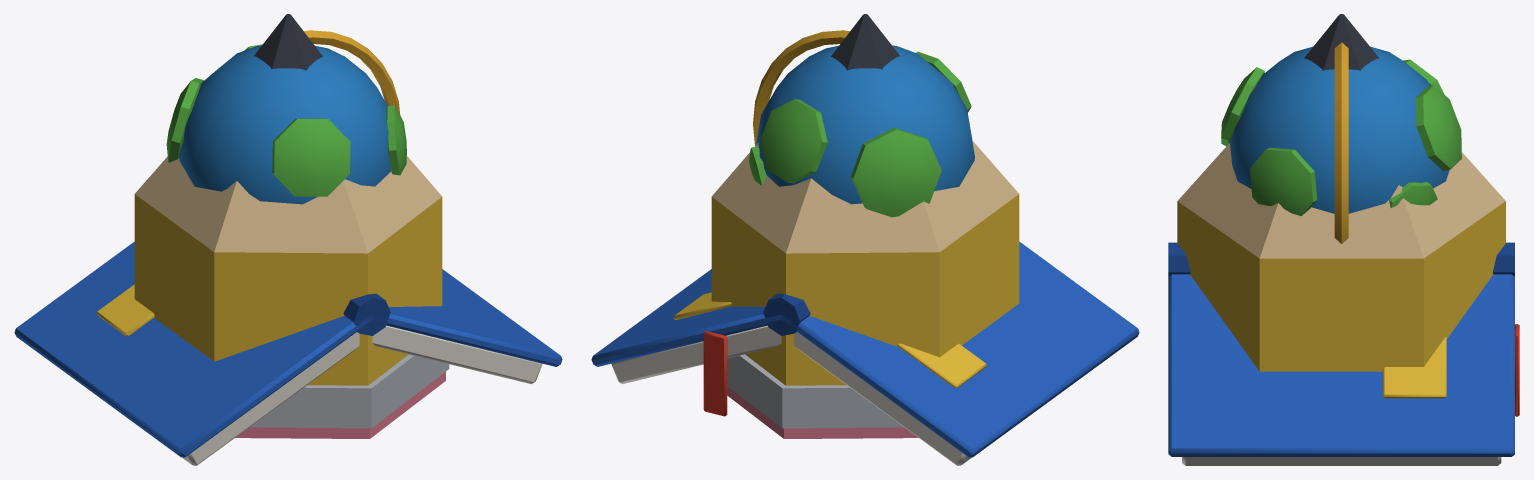
Rendered from 2026-11-28_chapeau.glb.
3 views of the same model, side by side, from view 1: azimuth 30°, elevation 25°; view 2: azimuth 150°, elevation 25°; view 3: azimuth 270°, elevation 25° (orthographic). The views are drawn at different scales.
Visible parts, largest first — view 1: chapeau_chapeau_crayon, chapeau_livre_ouvert, chapeau_globe_de_classe; view 2: chapeau_chapeau_crayon, chapeau_livre_ouvert, chapeau_globe_de_classe; view 3: chapeau_chapeau_crayon, chapeau_livre_ouvert, chapeau_globe_de_classe.
Boxes of the visible parts, x1,y1,x2,y2 form: chapeau_chapeau_crayon: (134,14,449,438); chapeau_livre_ouvert: (14,241,562,465); chapeau_globe_de_classe: (166,30,406,204); chapeau_chapeau_crayon: (711,14,1019,438); chapeau_livre_ouvert: (591,241,1139,465); chapeau_globe_de_classe: (749,30,974,217); chapeau_chapeau_crayon: (1177,14,1505,371); chapeau_livre_ouvert: (1168,242,1519,465); chapeau_globe_de_classe: (1221,42,1461,243).
Size of the model in its own units: 0.501 by 0.455 by 0.385.
